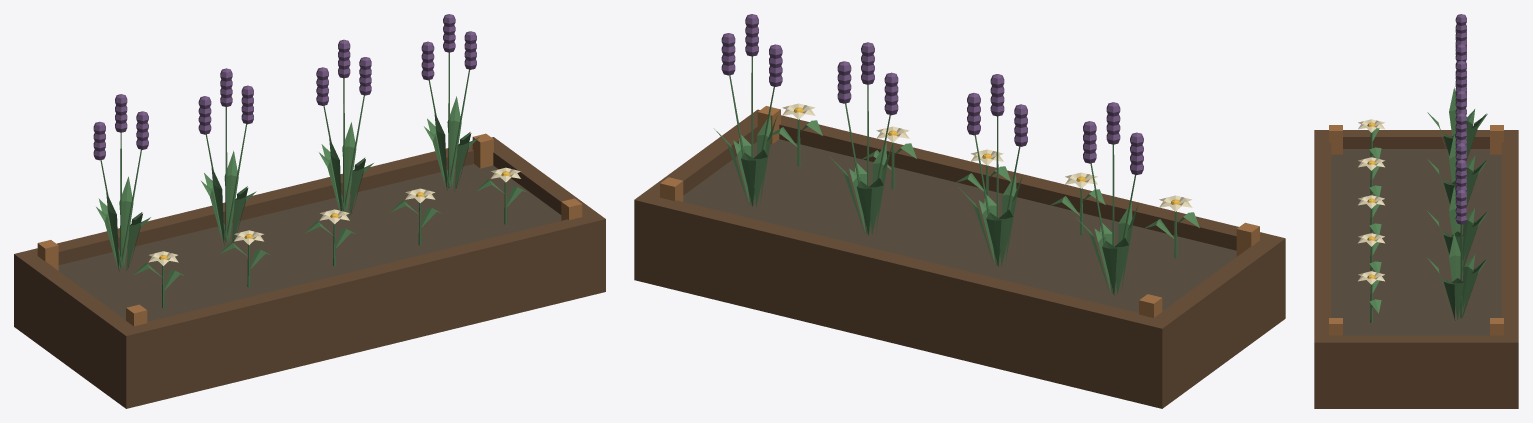
The model's file is b08_raised_perennial_bed.glb.
3 views of the same model, side by side, from view 1: azimuth 30°, elevation 25°; view 2: azimuth 150°, elevation 25°; view 3: azimuth 270°, elevation 25° (orthographic). The views are drawn at different scales.
Visible parts, largest first — view 1: b08_raised_perennial_bed; view 2: b08_raised_perennial_bed; view 3: b08_raised_perennial_bed.
Boxes of the visible parts, x1,y1,x2,y2 form: b08_raised_perennial_bed: (14,14,605,408); b08_raised_perennial_bed: (634,14,1285,408); b08_raised_perennial_bed: (1314,14,1518,408).
Size of the model in its own units: 2.69 by 1.27 by 1.09.
